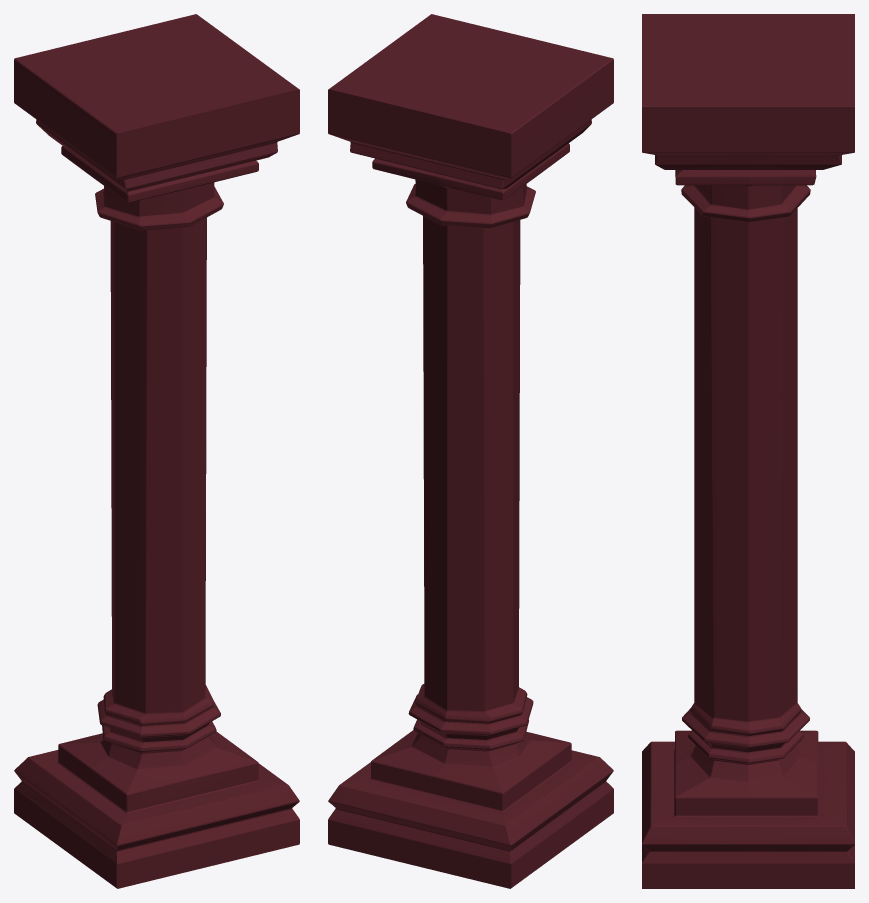
File: Pillar.fbx
The picture shows the model from 3 angles, left to right: view 1: azimuth 30°, elevation 25°; view 2: azimuth 150°, elevation 25°; view 3: azimuth 270°, elevation 25°; orthographic projection. The views are drawn at different scales.
Parts seen in each view (by area): view 1: pilliar; view 2: pilliar; view 3: pilliar.
Part boxes in pixels (<box>): pilliar: <box>14,14,299,888</box>; pilliar: <box>328,14,613,888</box>; pilliar: <box>642,14,854,888</box>.
Bounding box in the file's own units: 0.4878 × 1.92 × 0.4735.
